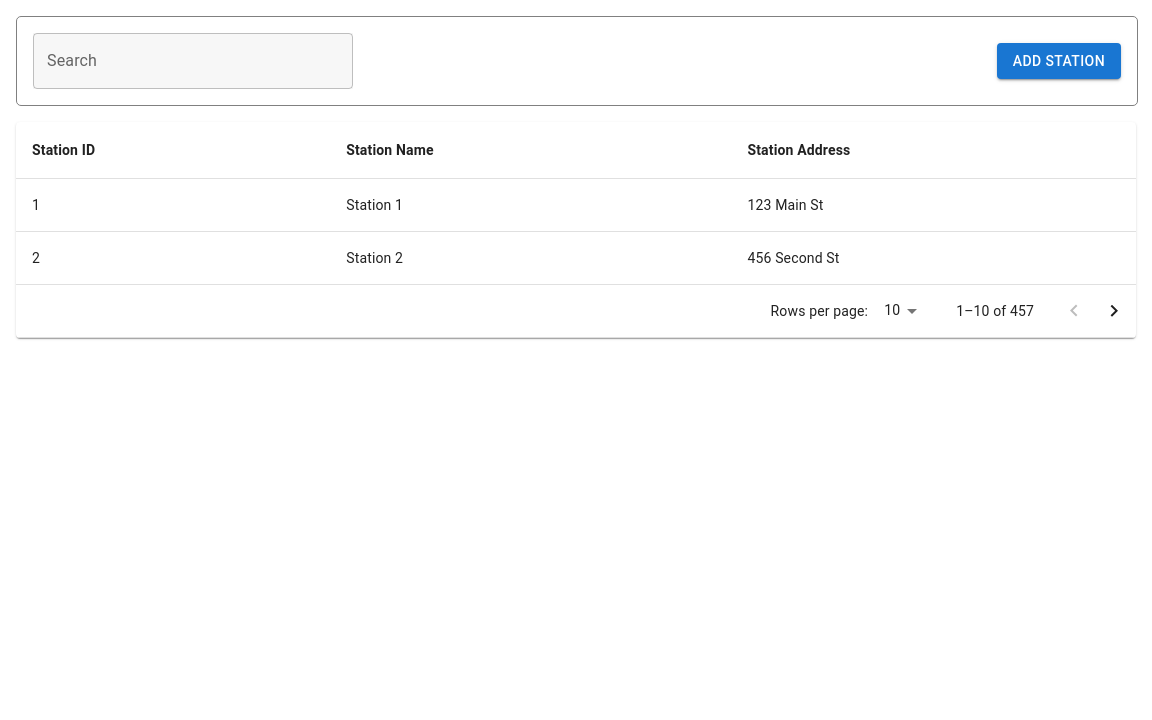
it: StationList Component › adds a new station
Click the button "Add Station": [1059, 61] box [997,43,1121,79]
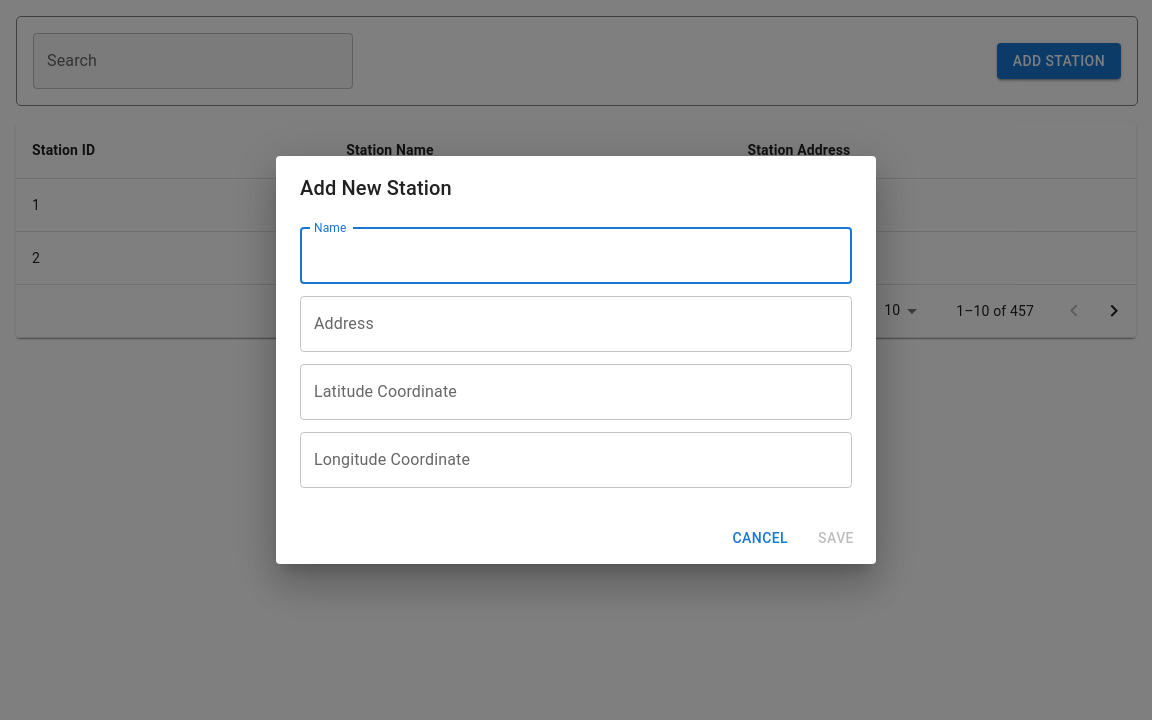
Now the button "Save" is shown, box [804,520,868,556]
